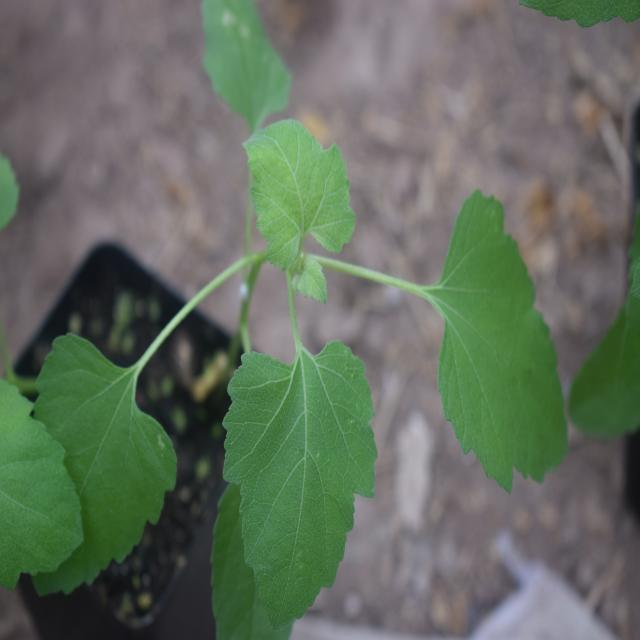cocklebur: (66, 68, 558, 622)
